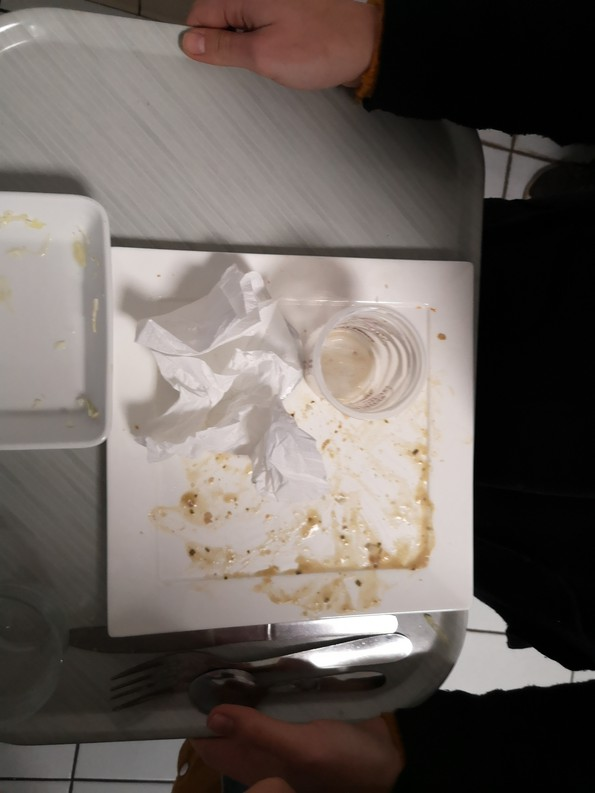trash: (133, 267, 310, 510), (316, 282, 432, 432)
